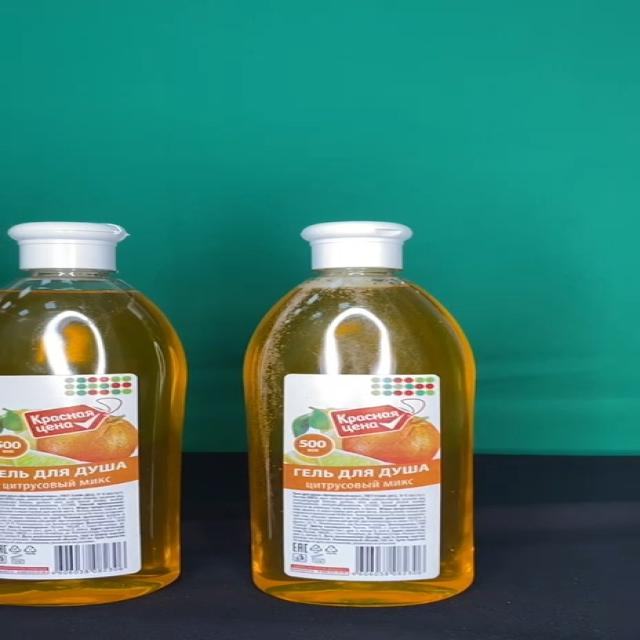Bottle: (239, 221, 477, 608), (0, 220, 188, 606)
Cap: (8, 222, 128, 271), (300, 222, 413, 270)
